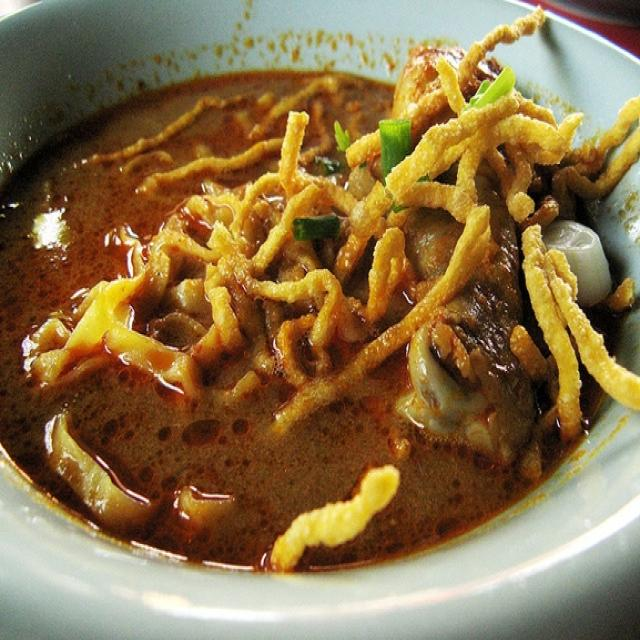面条主食: (18, 18, 618, 602)
